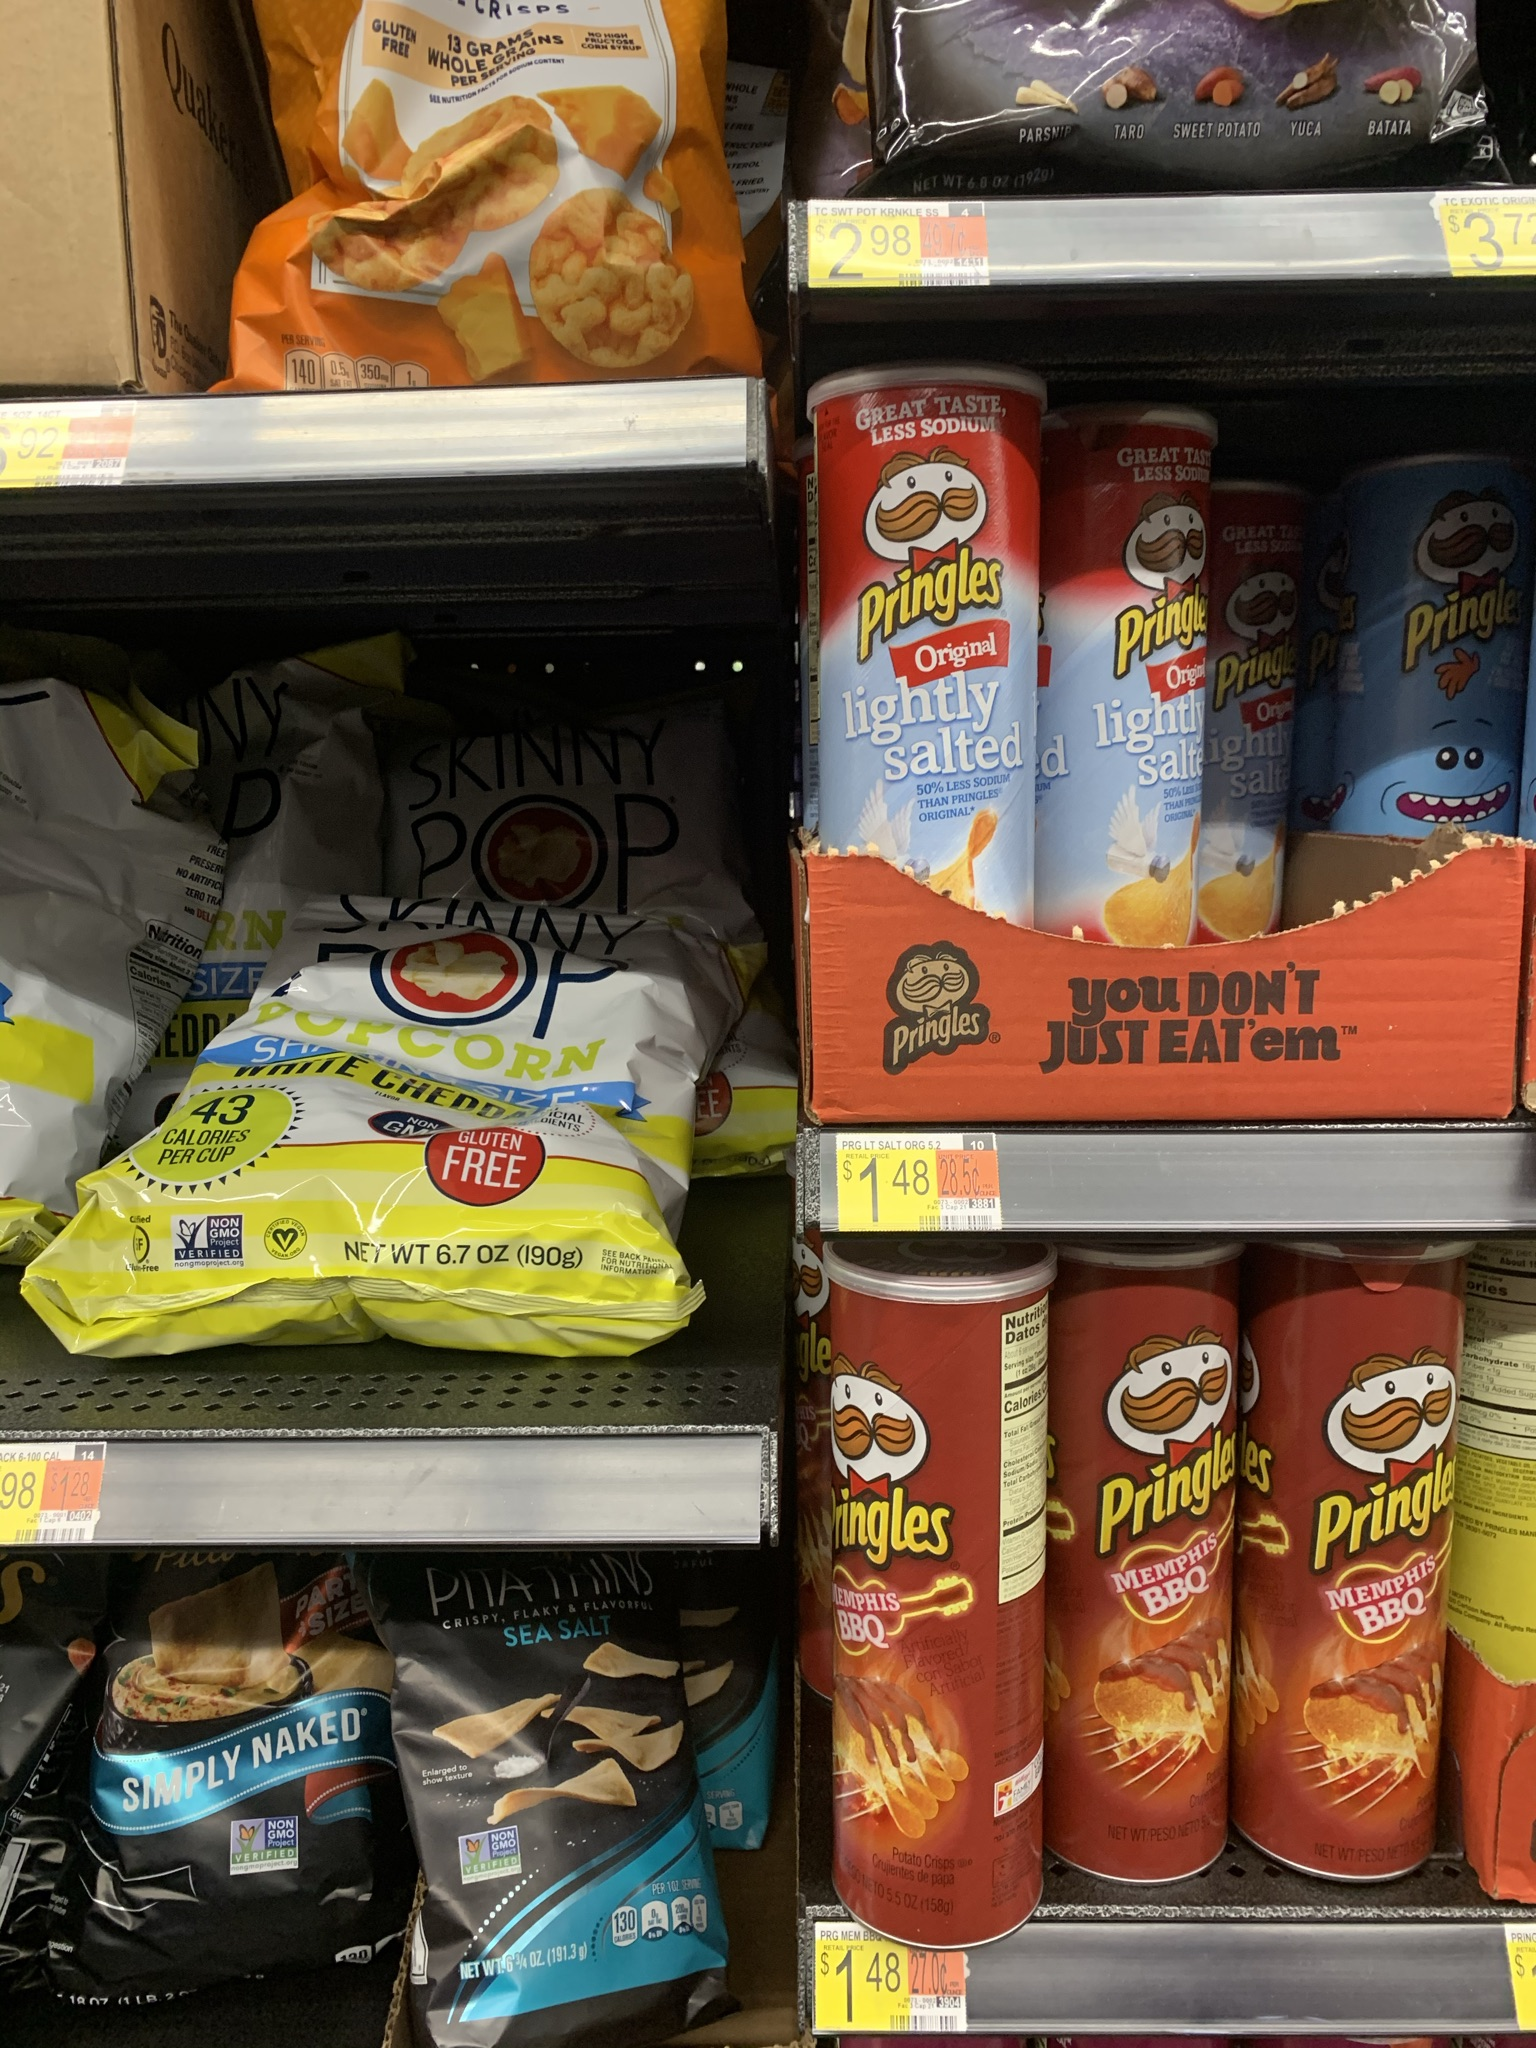Chips: (816, 1240, 1042, 1945), (1255, 1234, 1471, 1867), (799, 358, 1042, 916), (1070, 1224, 1242, 1893), (1049, 390, 1217, 951)
